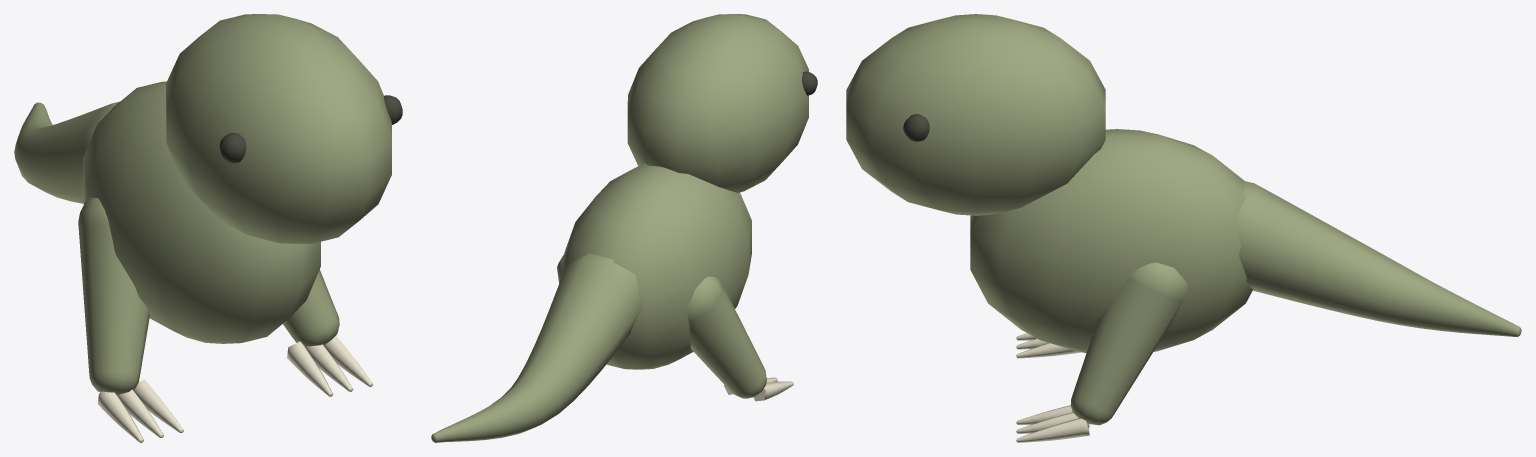
The model's file is dinosaurs-and-prehistoric-life-hatchling-eedea149__4923.glb.
3 renders of one model, left to right at view 1: azimuth 30°, elevation 25°; view 2: azimuth 150°, elevation 25°; view 3: azimuth 270°, elevation 25°, orthographic. The views are drawn at different scales.
Visible parts, largest first — view 1: hatchling; view 2: hatchling; view 3: hatchling.
Part boxes in pixels (left/top/right/bottom): hatchling: left=14, top=14, right=402, bottom=442; hatchling: left=431, top=14, right=817, bottom=442; hatchling: left=846, top=14, right=1521, bottom=442.
Size of the model in its own units: 0.1516 by 0.2413 by 0.4.
